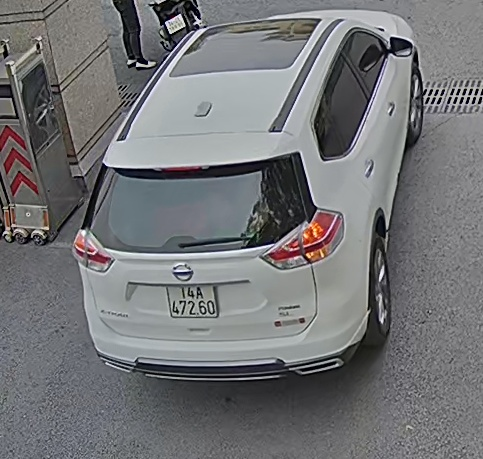vehicle plate: (162, 283, 223, 320)
